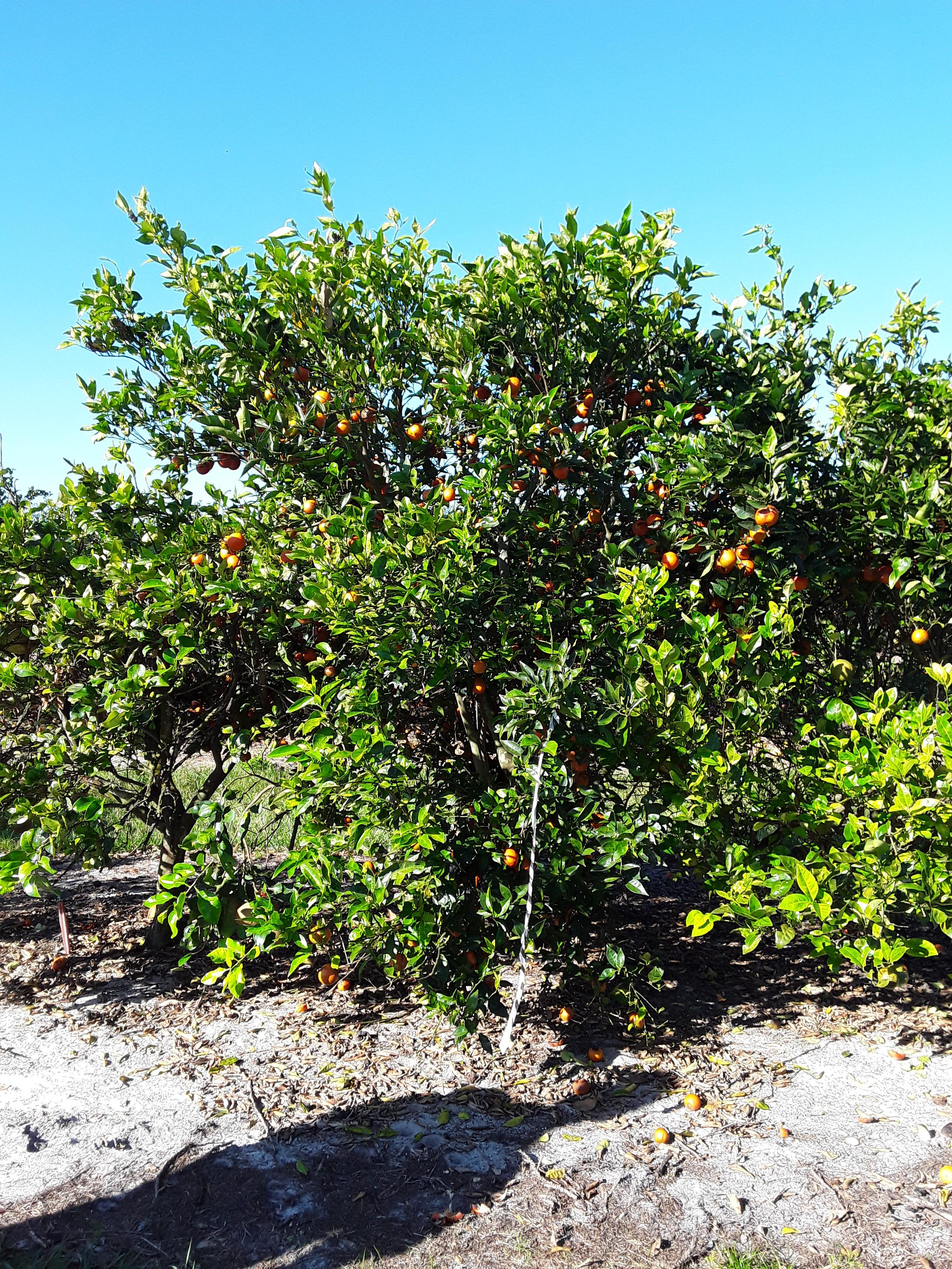fruit_on_ground: (722, 626, 760, 658), (863, 557, 894, 586), (827, 655, 858, 684), (677, 530, 708, 556), (882, 566, 908, 593), (753, 502, 780, 527), (642, 374, 670, 398), (307, 921, 333, 946), (509, 846, 533, 872), (361, 507, 387, 531), (355, 404, 380, 427), (499, 844, 522, 869), (835, 577, 859, 600), (315, 962, 339, 985), (599, 371, 622, 394), (386, 950, 409, 973), (459, 947, 483, 969), (501, 374, 523, 398), (873, 609, 898, 630), (789, 636, 814, 657), (568, 771, 593, 792), (403, 420, 426, 442), (658, 549, 681, 571), (711, 554, 735, 575), (908, 626, 931, 647), (788, 574, 812, 594), (225, 530, 247, 551), (746, 526, 770, 545), (718, 546, 737, 570), (570, 754, 591, 775), (642, 475, 663, 496), (348, 405, 370, 425), (345, 532, 365, 554), (737, 555, 757, 577), (291, 364, 313, 384), (733, 542, 755, 562), (588, 809, 608, 830), (622, 388, 643, 408), (691, 397, 713, 416), (630, 518, 650, 538), (472, 383, 492, 403), (341, 587, 361, 607), (168, 452, 189, 471), (459, 430, 480, 449), (644, 513, 666, 531), (584, 484, 604, 503), (313, 623, 332, 643), (278, 547, 298, 566), (550, 461, 570, 480), (585, 505, 605, 524), (655, 483, 674, 503), (200, 585, 220, 604), (530, 723, 549, 742), (540, 577, 559, 596), (579, 385, 598, 404), (300, 496, 319, 515), (332, 418, 351, 437), (690, 411, 710, 429), (562, 745, 583, 762), (416, 486, 435, 504), (259, 385, 278, 403), (188, 550, 207, 568), (313, 386, 332, 404), (439, 484, 457, 503), (508, 477, 527, 495), (291, 649, 309, 668), (581, 392, 601, 409), (223, 554, 243, 571), (531, 513, 549, 531), (574, 401, 592, 419), (528, 370, 547, 387), (526, 451, 545, 468), (278, 352, 297, 369), (469, 677, 488, 694), (469, 657, 488, 674), (312, 411, 329, 429), (216, 451, 233, 469), (642, 538, 661, 554), (546, 423, 565, 439), (225, 453, 241, 472), (301, 647, 318, 664), (194, 459, 211, 476), (317, 517, 333, 535), (217, 545, 236, 560), (212, 612, 228, 629), (377, 481, 394, 497), (601, 449, 619, 464), (569, 420, 587, 435), (580, 444, 596, 460), (537, 463, 553, 479), (322, 663, 338, 679), (627, 483, 643, 499), (430, 476, 447, 491), (281, 525, 298, 540), (360, 859, 377, 874), (274, 503, 290, 518), (199, 456, 215, 471), (238, 750, 252, 763)
fruit_on_tree: (570, 1075, 593, 1098), (651, 1125, 673, 1147), (681, 1091, 704, 1112), (625, 1010, 646, 1032), (331, 971, 352, 992), (586, 1042, 607, 1063), (48, 953, 68, 973), (554, 1004, 574, 1024), (936, 1162, 952, 1186)
